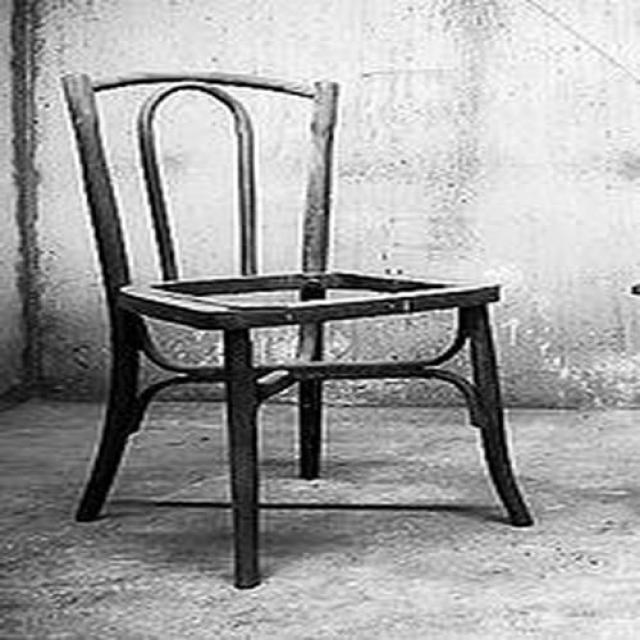chair: (64, 70, 535, 593)
